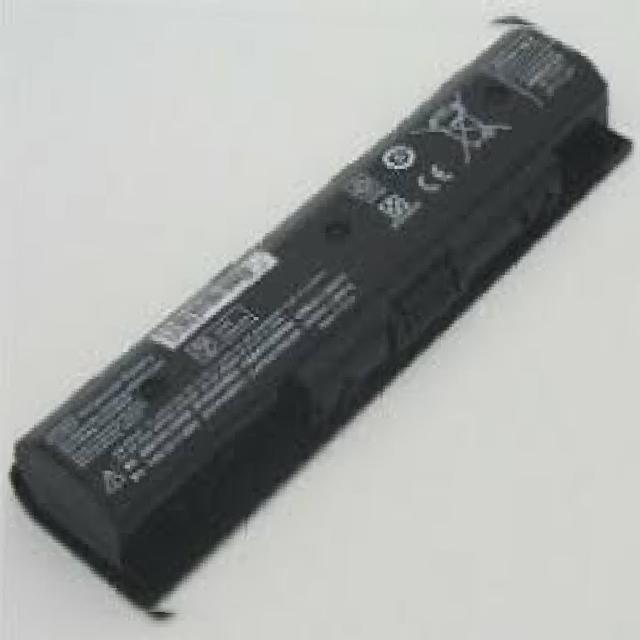Battery: (6, 9, 613, 618)
